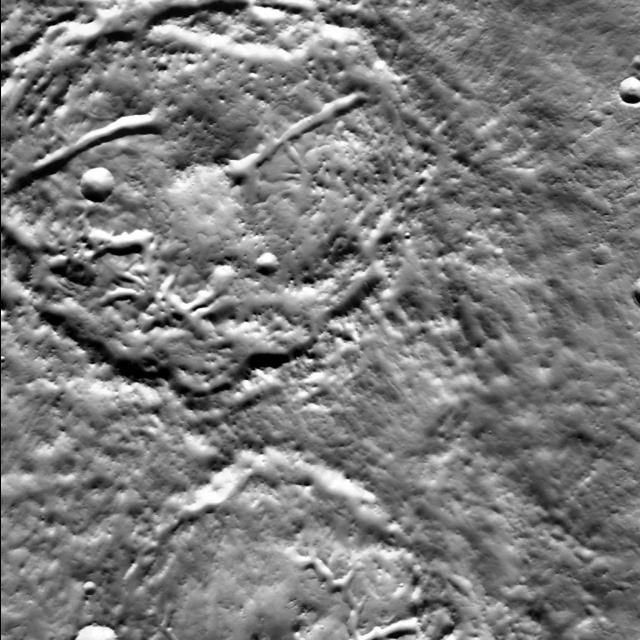crater: (0, 0, 403, 388), (118, 451, 438, 640), (78, 160, 114, 197), (421, 602, 452, 634), (618, 70, 640, 98), (255, 246, 277, 268), (592, 238, 612, 258), (82, 574, 96, 588), (518, 569, 528, 579), (492, 240, 502, 250), (631, 49, 640, 60), (624, 315, 632, 323)
